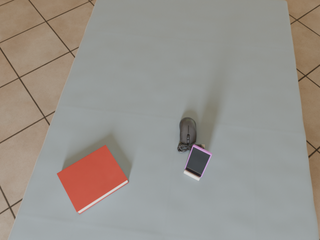book: (57, 145, 129, 214)
mouse: (177, 117, 205, 152)
phone: (185, 145, 212, 177)
